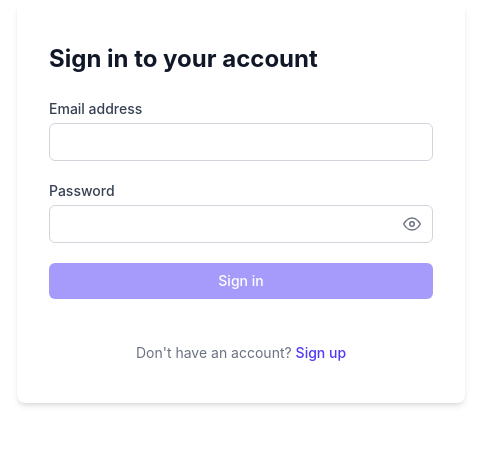
Test: LoginForm › field validation: empty email on blur shows "Email is required."
Click the field labelled "Email address" at (241, 142), box [49, 123, 433, 161]
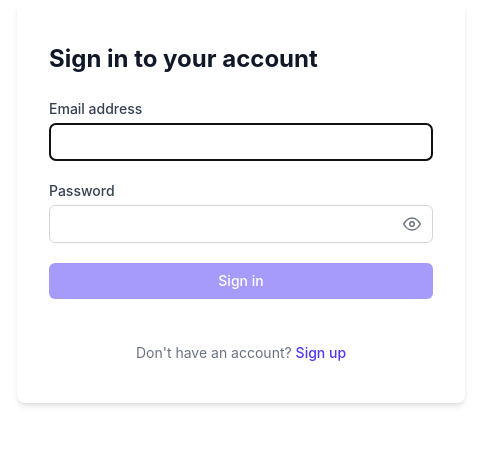
Press Tab
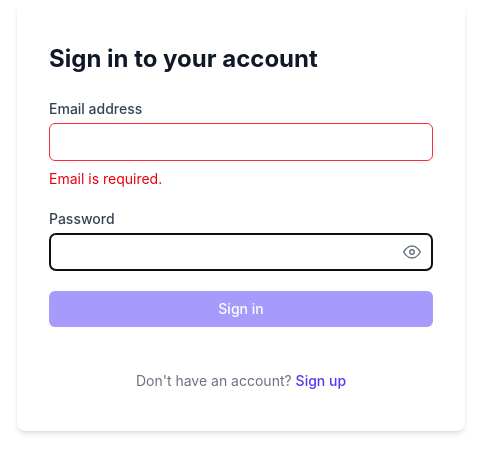
Expected: the text "Email is required." is shown, [49, 170, 162, 187]
